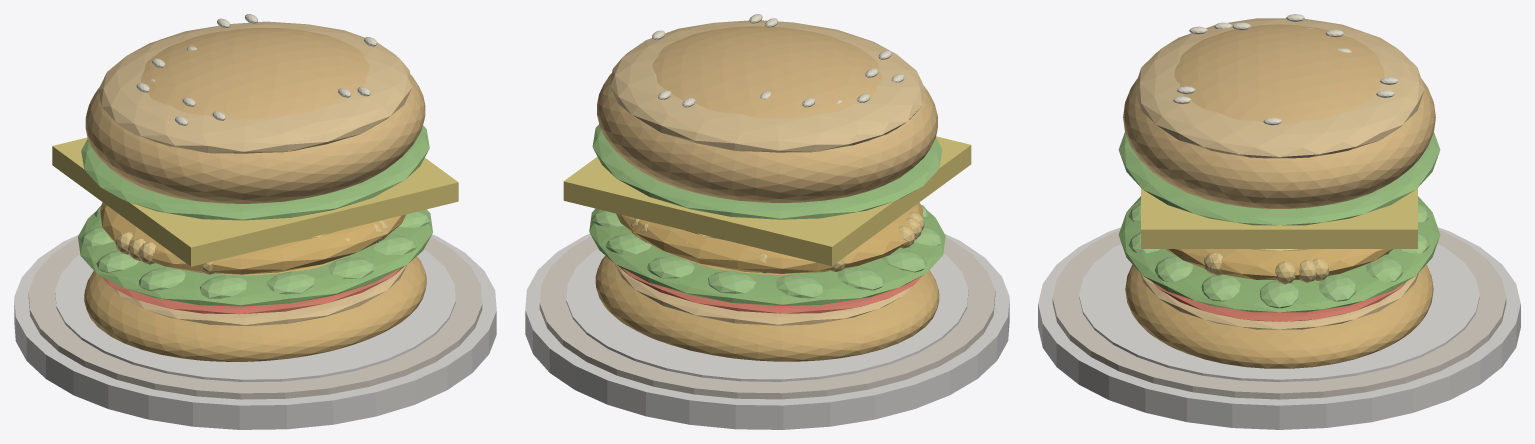
File: burger_2tang.glb
3 views of the same model, side by side, from view 1: azimuth 30°, elevation 25°; view 2: azimuth 150°, elevation 25°; view 3: azimuth 270°, elevation 25° (orthographic).
Visible parts, largest first — view 1: obj_0044, obj_0000, obj_0045, obj_0003, obj_0001, obj_0042, obj_0002, obj_0006, obj_0043, obj_0021, obj_0004, obj_0005 (+6 smaller); view 2: obj_0044, obj_0000, obj_0045, obj_0003, obj_0001, obj_0042, obj_0002, obj_0006, obj_0043, obj_0021, obj_0004, obj_0005 (+6 smaller); view 3: obj_0044, obj_0000, obj_0045, obj_0001, obj_0002, obj_0003, obj_0042, obj_0006, obj_0043, obj_0021, obj_0004, obj_0005 (+5 smaller).
Part boxes in pixels (x1,y1,x2,y2): obj_0044: (85,27,425,203); obj_0000: (14,234,496,429); obj_0045: (98,21,412,153); obj_0003: (84,256,426,361); obj_0001: (28,237,482,399); obj_0042: (52,137,458,266); obj_0002: (55,249,455,381); obj_0006: (78,209,432,306); obj_0043: (81,125,429,220); obj_0021: (100,204,406,274); obj_0004: (111,265,406,325); obj_0005: (101,266,403,314); obj_0044: (597,26,937,203); obj_0000: (525,233,1009,429); obj_0045: (610,20,924,152); obj_0003: (595,256,939,361); obj_0001: (539,236,995,399); obj_0042: (563,136,971,265); obj_0002: (566,249,968,381); obj_0006: (589,208,945,305); obj_0043: (592,124,942,219); obj_0021: (616,202,923,273); obj_0004: (615,264,911,325); obj_0005: (618,266,922,313); obj_0044: (1123,24,1435,208); obj_0000: (1038,227,1520,429); obj_0045: (1134,18,1424,158); obj_0001: (1052,229,1506,399); obj_0002: (1079,243,1479,381); obj_0003: (1125,264,1433,368); obj_0042: (1141,188,1417,248); obj_0006: (1118,196,1440,312); obj_0043: (1118,132,1440,225); obj_0021: (1167,249,1392,280); obj_0004: (1140,273,1418,329); obj_0005: (1153,282,1405,321).
Size of the model in its own units: 2.16 by 1.34 by 2.16.
